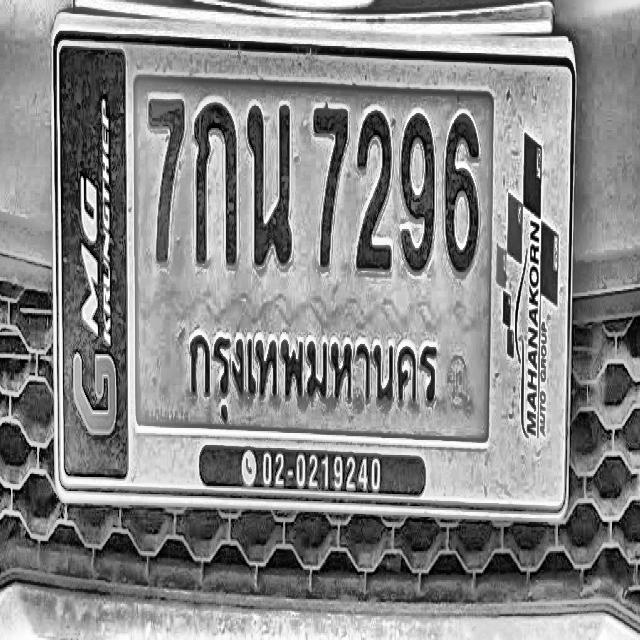license-plate: (52, 0, 574, 531)
